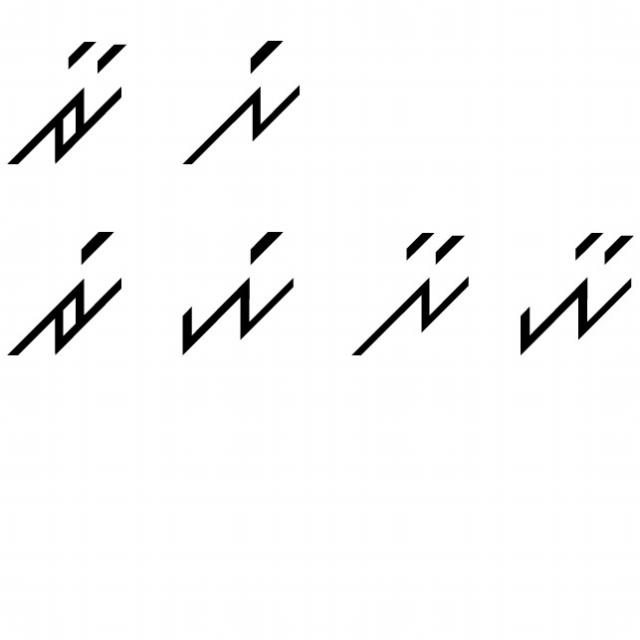lan: (337, 224, 482, 367)
lang: (171, 35, 307, 177)
ran: (4, 32, 136, 178)
rang: (7, 226, 128, 359)
yan: (507, 217, 636, 360)
yang: (161, 228, 300, 354)
